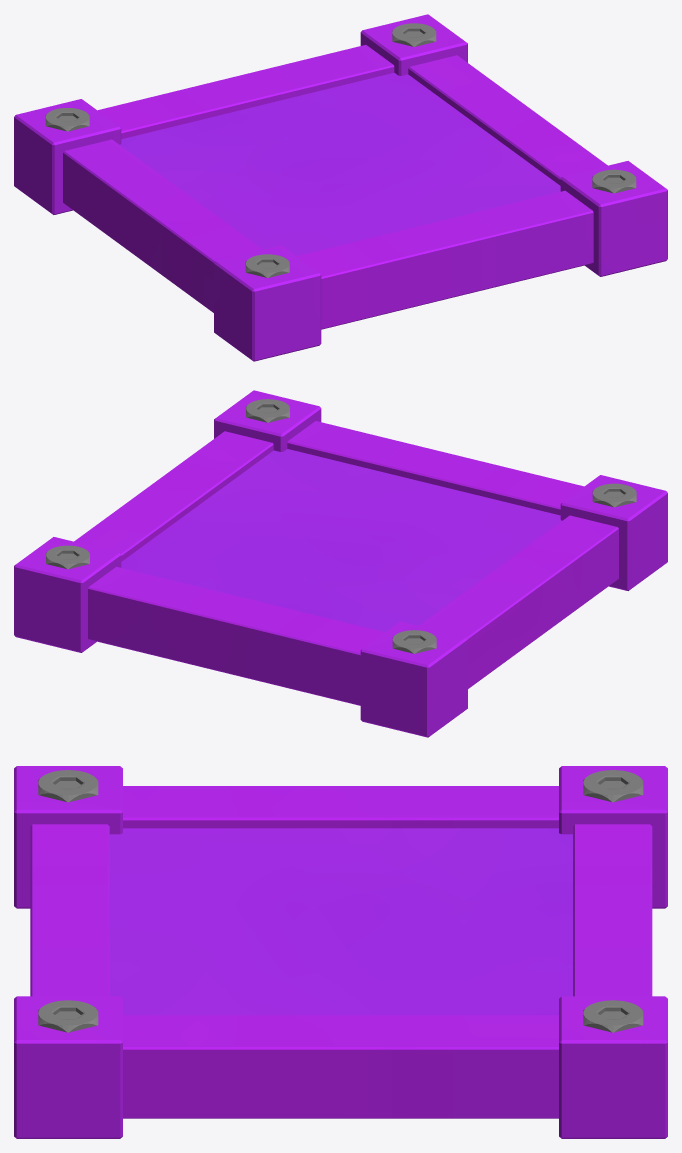
Rendered from SquareFramedPlatformPink.fbx.
The picture shows the model from 3 angles, top to bottom: view 1: azimuth 30°, elevation 25°; view 2: azimuth 150°, elevation 25°; view 3: azimuth 270°, elevation 25°; orthographic projection. The views are drawn at different scales.
Parts seen in each view (by area): view 1: Cube, Cube.001; view 2: Cube, Cube.001; view 3: Cube, Cube.001.
Boxes of the visible parts, left/top/right/bottom form: Cube: left=14, top=14, right=667, bottom=361; Cube.001: left=45, top=23, right=636, bottom=277; Cube: left=14, top=390, right=667, bottom=737; Cube.001: left=46, top=399, right=636, bottom=653; Cube: left=14, top=766, right=667, bottom=1138; Cube.001: left=38, top=770, right=643, bottom=1032.
Size of the model in its own units: 6 by 1.05 by 6.
